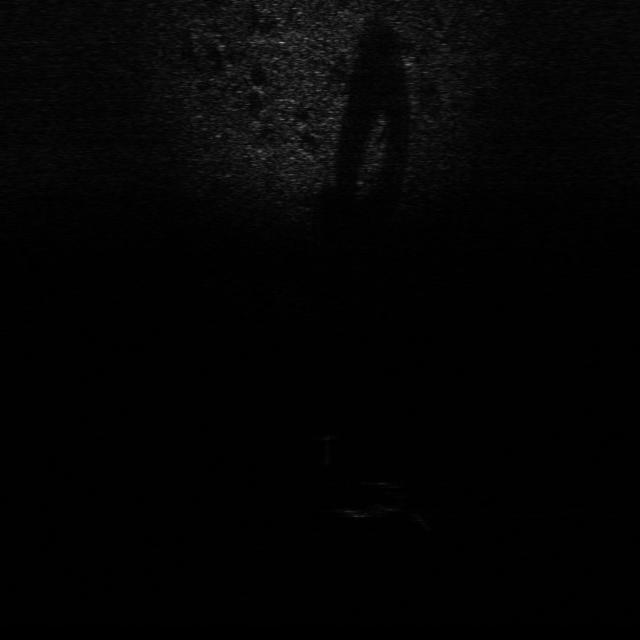ball: (306, 420, 346, 442)
tyre: (327, 477, 409, 519)
